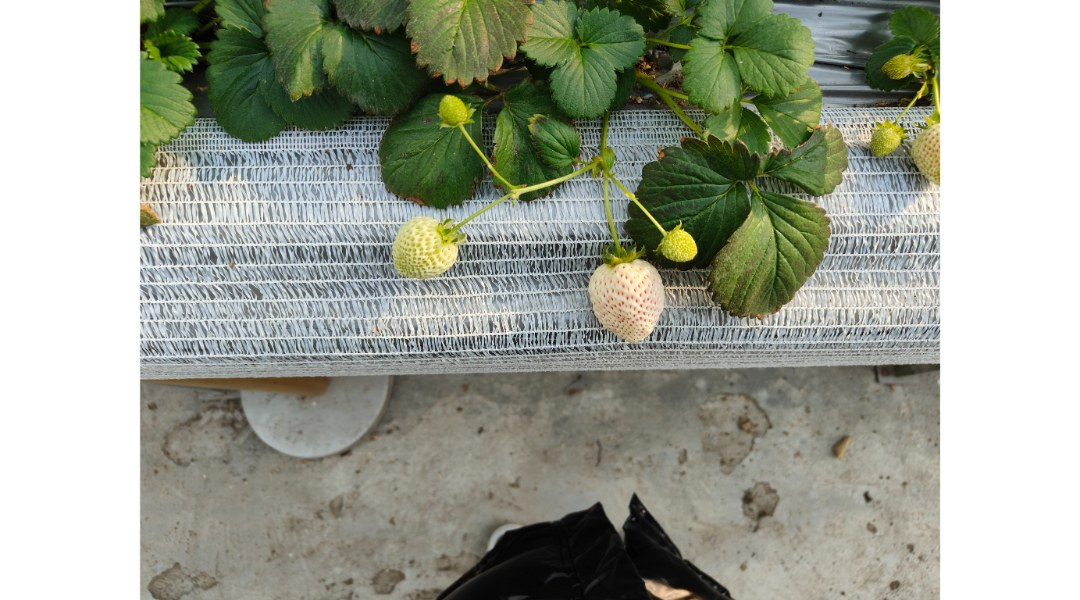berry: (586, 242, 666, 350), (379, 213, 468, 288), (655, 211, 699, 271), (912, 109, 939, 195), (866, 109, 906, 159), (431, 95, 474, 131)
strain: (615, 177, 668, 229), (649, 97, 710, 141), (525, 169, 594, 200), (599, 187, 622, 258), (474, 144, 511, 184), (463, 195, 501, 225)
